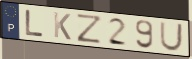2: (105, 18, 129, 47)
9: (134, 19, 154, 50)
K: (52, 11, 73, 42)
L: (24, 8, 45, 38)
U: (159, 21, 184, 53)
Z: (75, 13, 104, 46)
